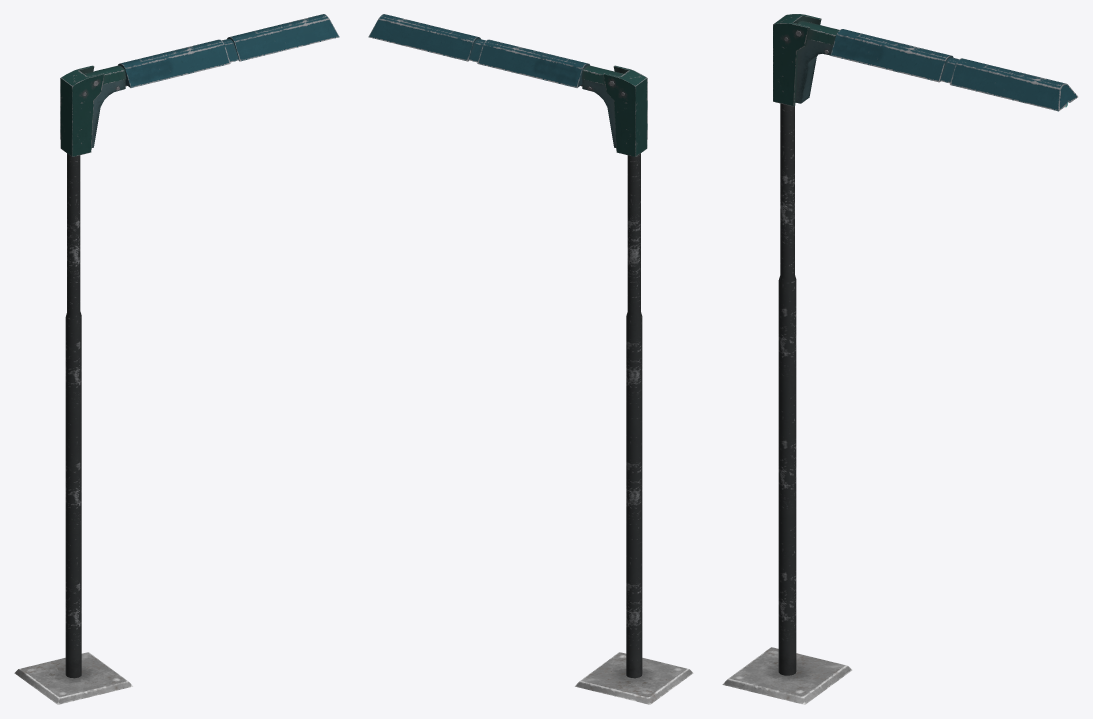
Rendered from streetlight.glb.
3 views of the same model, side by side, from view 1: azimuth 30°, elevation 25°; view 2: azimuth 150°, elevation 25°; view 3: azimuth 330°, elevation 25° (orthographic). The views are drawn at different scales.
Parts seen in each view (by area): view 1: Handle_low_blinn1_0; view 2: Handle_low_blinn1_0; view 3: Handle_low_blinn1_0.
Part boxes in pixels (bbox=[...]): Handle_low_blinn1_0: bbox=[14, 14, 339, 704]; Handle_low_blinn1_0: bbox=[368, 14, 693, 704]; Handle_low_blinn1_0: bbox=[722, 14, 1077, 704].
Bounding box in the file's own units: 199 × 389 × 50.8.
1 material, 1 textured.
